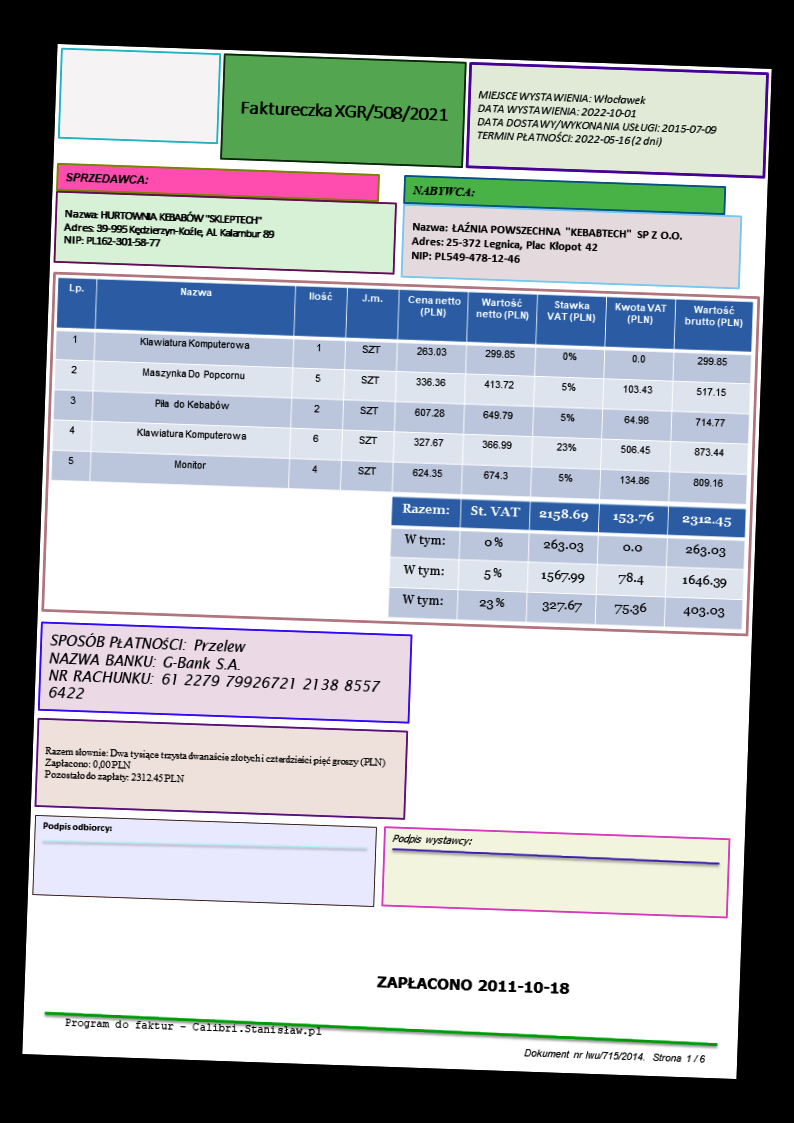Table: (49, 275, 753, 505), (385, 493, 745, 632)
TextBox: (44, 628, 387, 717), (39, 742, 391, 798), (471, 86, 721, 154), (407, 216, 688, 276), (58, 204, 280, 256), (234, 94, 449, 128), (61, 1013, 325, 1040), (369, 968, 574, 1000), (519, 1042, 710, 1068), (388, 827, 474, 854), (60, 167, 150, 189), (36, 817, 115, 838), (408, 180, 475, 200)
